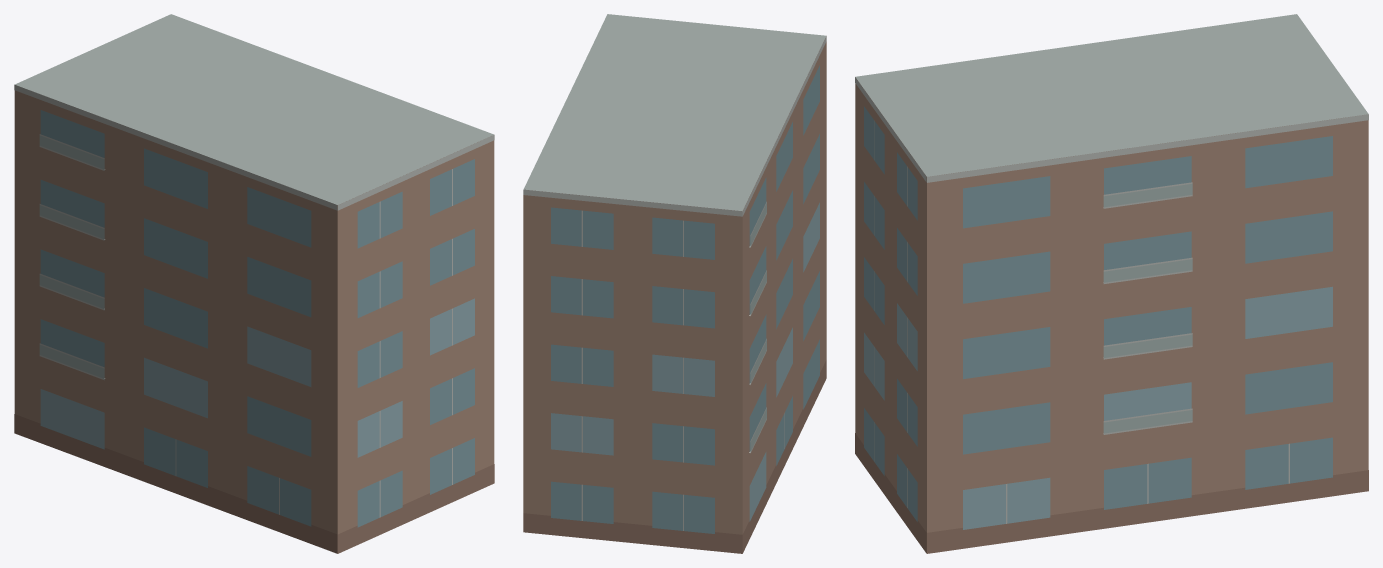
Rendered from survey-upis-32835582.glb.
3 renders of one model, left to right at view 1: azimuth 30°, elevation 25°; view 2: azimuth 150°, elevation 25°; view 3: azimuth 270°, elevation 25°, orthographic. The views are drawn at different scales.
Parts seen in each view (by area): view 1: survey-upis-32835582.tmp; view 2: survey-upis-32835582.tmp; view 3: survey-upis-32835582.tmp.
Boxes of the visible parts, left/top/right/bottom form: survey-upis-32835582.tmp: left=14, top=14, right=494, bottom=553; survey-upis-32835582.tmp: left=523, top=14, right=826, bottom=553; survey-upis-32835582.tmp: left=855, top=14, right=1368, bottom=553.
Size of the model in its own units: 14.14 by 15.25 by 18.84.
